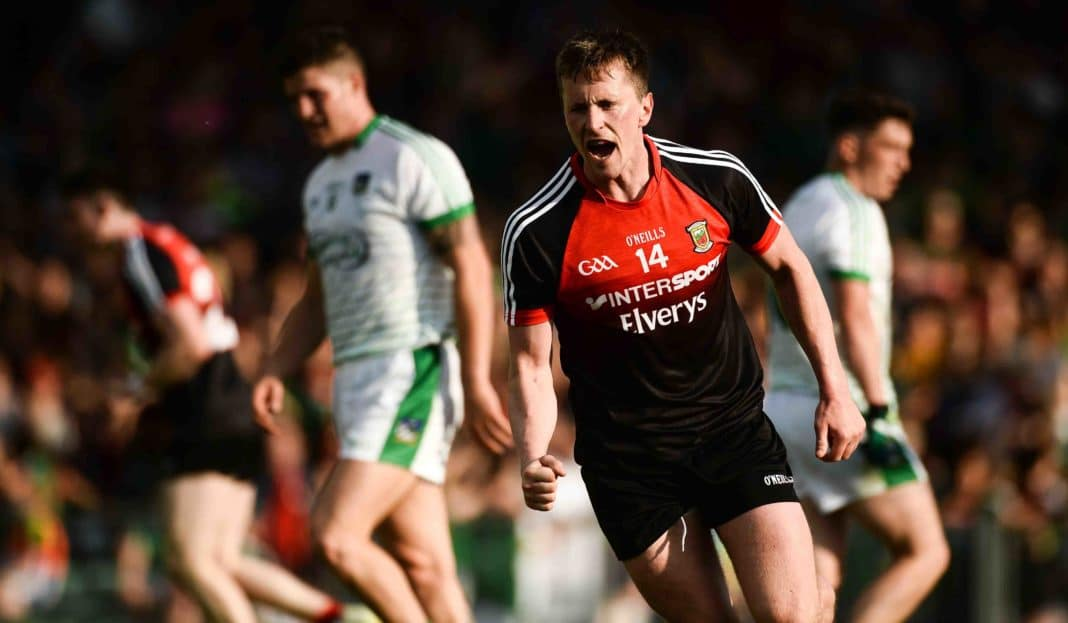player: (524, 35, 816, 595), (270, 51, 485, 603), (760, 81, 963, 604), (72, 190, 258, 596)
